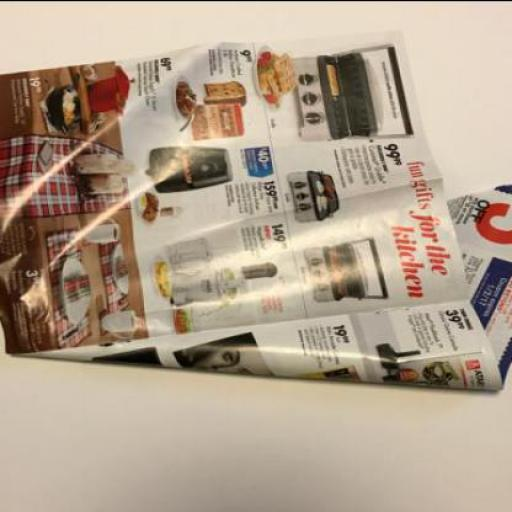paper: (1, 41, 511, 389)
